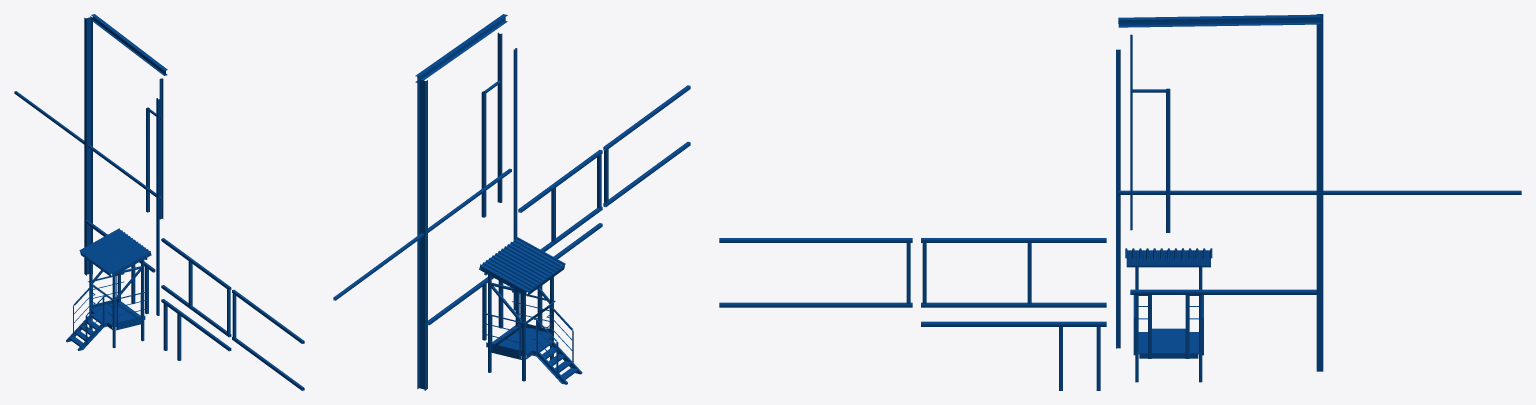
The model's file is GCC-AAV-13220-30.nwd(13).fbx.
3 renders of one model, left to right at view 1: azimuth 30°, elevation 25°; view 2: azimuth 150°, elevation 25°; view 3: azimuth 270°, elevation 25°, orthographic. The views are drawn at different scales.
Visible parts, largest first — view 1: GENSEC 3 of SBFRAMEWORK /13220-BD-001-311-5207/CS/KM1/K/ROW_, GENSEC 1 of SBFRAMEWORK /13220-BD-001-312-5207/CS/KM2/K/ROW_, GENSEC 12 of SBFRAMEWORK /13220-BD-001-311-5207/CS/KM1/B/+13, GENSEC 397 of FRMWORK /13220-11-5207-KM2___22-UNPLACED, PANEL 103 of SBFRAMEWORK /09.02, PANEL 100 of SBFRAMEWORK /09.02, PANEL 101 of SBFRAMEWORK /09.02, PANEL 102 of SBFRAMEWORK /09.02, Группа фасетов, GENSEC 3 of SBFRAMEWORK /13220-BD-001-312-5207/CS/KM2/B/+5.0, GENSEC 3 of SBFRAMEWORK /13220-BD-001-312-5207/CS/KM2/B/+2.9, GENSEC 2 of SBFRAMEWORK /13220-BD-001-312-5207/CS/KM2/B/+5.0 (+6 smaller); view 2: GENSEC 3 of SBFRAMEWORK /13220-BD-001-311-5207/CS/KM1/K/ROW_, GENSEC 1 of SBFRAMEWORK /13220-BD-001-312-5207/CS/KM2/K/ROW_, GENSEC 12 of SBFRAMEWORK /13220-BD-001-311-5207/CS/KM1/B/+13, GENSEC 397 of FRMWORK /13220-11-5207-KM2___22-UNPLACED, PANEL 103 of SBFRAMEWORK /09.02, PANEL 102 of SBFRAMEWORK /09.02, PANEL 101 of SBFRAMEWORK /09.02, PANEL 100 of SBFRAMEWORK /09.02, Группа фасетов, GENSEC 3 of SBFRAMEWORK /13220-BD-001-312-5207/CS/KM2/B/+5.0, GENSEC 3 of SBFRAMEWORK /13220-BD-001-312-5207/CS/KM2/B/+2.9, GENSEC 2 of SBFRAMEWORK /13220-BD-001-312-5207/CS/KM2/B/+5.0 (+6 smaller); view 3: GENSEC 3 of SBFRAMEWORK /13220-BD-001-311-5207/CS/KM1/K/ROW_, GENSEC 12 of SBFRAMEWORK /13220-BD-001-311-5207/CS/KM1/B/+13, GENSEC 1 of SBFRAMEWORK /13220-BD-001-312-5207/CS/KM2/K/ROW_, PANEL 100 of SBFRAMEWORK /09.02, GENSEC 3 of SBFRAMEWORK /13220-BD-001-312-5207/CS/KM2/B/+2.9, GENSEC 1 of SBFRAMEWORK /13220-BD-001-312-5207/CS/KM2/B/+3.3, GENSEC 1 of SBFRAMEWORK /13220-BD-001-312-5207/CS/KM2/B/+2.3, GENSEC 2 of SBFRAMEWORK /13220-BD-001-312-5207/CS/KM2/B/+2.9, GENSEC 11 of SBFRAMEWORK /13220-BD-001-311-5207/CS/KM1/РС/+6, GENSEC 3 of SBFRAMEWORK /13220-BD-001-312-5207/CS/KM2/B/+5.0, GENSEC 12 of SBFRAMEWORK /13220-BD-001-311-5207/CS/KM1/РС/+6, GENSEC 2 of SBFRAMEWORK /13220-BD-001-312-5207/CS/KM2/B/+5.0 (+1 smaller).
Boxes of the visible parts, x1,y1,x2,y2 form: GENSEC 3 of SBFRAMEWORK /13220-BD-001-311-5207/CS/KM1/K/ROW_: (84,16,92,275); GENSEC 1 of SBFRAMEWORK /13220-BD-001-312-5207/CS/KM2/K/ROW_: (156,98,159,315); GENSEC 12 of SBFRAMEWORK /13220-BD-001-311-5207/CS/KM1/B/+13: (91,14,167,75); GENSEC 397 of FRMWORK /13220-11-5207-KM2___22-UNPLACED: (159,78,163,219); PANEL 103 of SBFRAMEWORK /09.02: (100,243,150,273); PANEL 100 of SBFRAMEWORK /09.02: (91,301,144,326); PANEL 101 of SBFRAMEWORK /09.02: (90,236,138,266); PANEL 102 of SBFRAMEWORK /09.02: (79,228,128,258); Группа фасетов: (146,107,149,212); GENSEC 3 of SBFRAMEWORK /13220-BD-001-312-5207/CS/KM2/B/+5.0: (232,289,304,343); GENSEC 3 of SBFRAMEWORK /13220-BD-001-312-5207/CS/KM2/B/+2.9: (232,337,304,390); GENSEC 2 of SBFRAMEWORK /13220-BD-001-312-5207/CS/KM2/B/+5.0: (161,238,231,290); GENSEC 3 of SBFRAMEWORK /13220-BD-001-311-5207/CS/KM1/K/ROW_: (417,78,427,390); GENSEC 1 of SBFRAMEWORK /13220-BD-001-312-5207/CS/KM2/K/ROW_: (513,48,517,310); GENSEC 12 of SBFRAMEWORK /13220-BD-001-311-5207/CS/KM1/B/+13: (415,14,507,82); GENSEC 397 of FRMWORK /13220-11-5207-KM2___22-UNPLACED: (497,32,502,202); PANEL 103 of SBFRAMEWORK /09.02: (505,237,565,273); PANEL 102 of SBFRAMEWORK /09.02: (480,256,540,291); PANEL 101 of SBFRAMEWORK /09.02: (492,247,552,282); PANEL 100 of SBFRAMEWORK /09.02: (486,325,551,356); Группа фасетов: (481,91,486,217); GENSEC 3 of SBFRAMEWORK /13220-BD-001-312-5207/CS/KM2/B/+5.0: (603,85,690,150); GENSEC 3 of SBFRAMEWORK /13220-BD-001-312-5207/CS/KM2/B/+2.9: (603,141,690,207); GENSEC 2 of SBFRAMEWORK /13220-BD-001-312-5207/CS/KM2/B/+5.0: (518,150,602,212); GENSEC 3 of SBFRAMEWORK /13220-BD-001-311-5207/CS/KM1/K/ROW_: (1316,14,1323,371); GENSEC 12 of SBFRAMEWORK /13220-BD-001-311-5207/CS/KM1/B/+13: (1118,14,1320,27); GENSEC 1 of SBFRAMEWORK /13220-BD-001-312-5207/CS/KM2/K/ROW_: (1116,49,1120,348); PANEL 100 of SBFRAMEWORK /09.02: (1135,332,1202,354); GENSEC 3 of SBFRAMEWORK /13220-BD-001-312-5207/CS/KM2/B/+2.9: (719,302,912,307); GENSEC 1 of SBFRAMEWORK /13220-BD-001-312-5207/CS/KM2/B/+3.3: (1130,289,1316,294); GENSEC 1 of SBFRAMEWORK /13220-BD-001-312-5207/CS/KM2/B/+2.3: (921,321,1106,326); GENSEC 2 of SBFRAMEWORK /13220-BD-001-312-5207/CS/KM2/B/+2.9: (921,302,1106,307); GENSEC 11 of SBFRAMEWORK /13220-BD-001-311-5207/CS/KM1/РС/+6: (1323,190,1521,194); GENSEC 3 of SBFRAMEWORK /13220-BD-001-312-5207/CS/KM2/B/+5.0: (719,238,912,242); GENSEC 12 of SBFRAMEWORK /13220-BD-001-311-5207/CS/KM1/РС/+6: (1118,190,1316,194); GENSEC 2 of SBFRAMEWORK /13220-BD-001-312-5207/CS/KM2/B/+5.0: (921,238,1106,242).
Size of the model in its own units: 144 by 490 by 940.
